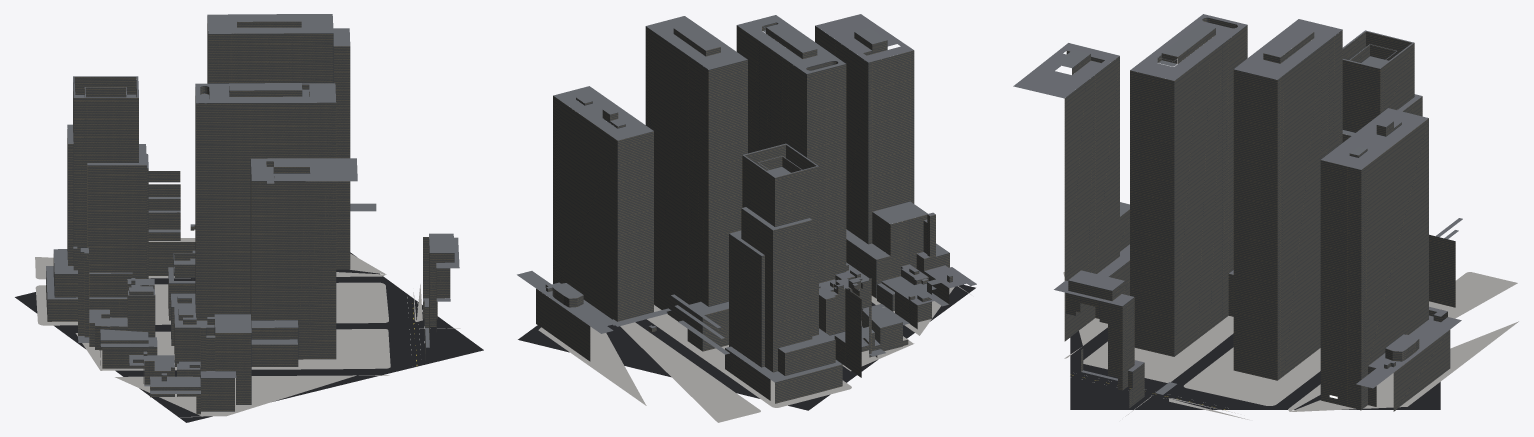
3 views of the same model, side by side, from view 1: azimuth 30°, elevation 25°; view 2: azimuth 150°, elevation 25°; view 3: azimuth 270°, elevation 25° (orthographic). The views are drawn at different scales.
Visible parts, largest first — view 1: t4_4, detail; view 2: t4_4, detail; view 3: t4_4, detail.
Boxes of the visible parts, bbox=[...] form: t4_4: bbox=[15, 14, 483, 422]; detail: bbox=[35, 238, 460, 417]; t4_4: bbox=[517, 14, 976, 410]; detail: bbox=[538, 286, 970, 422]; t4_4: bbox=[1013, 14, 1462, 411]; detail: bbox=[1063, 272, 1518, 419].
Bounding box in the file's own units: 293 × 230 × 342.
5 materials, 2 textured.
